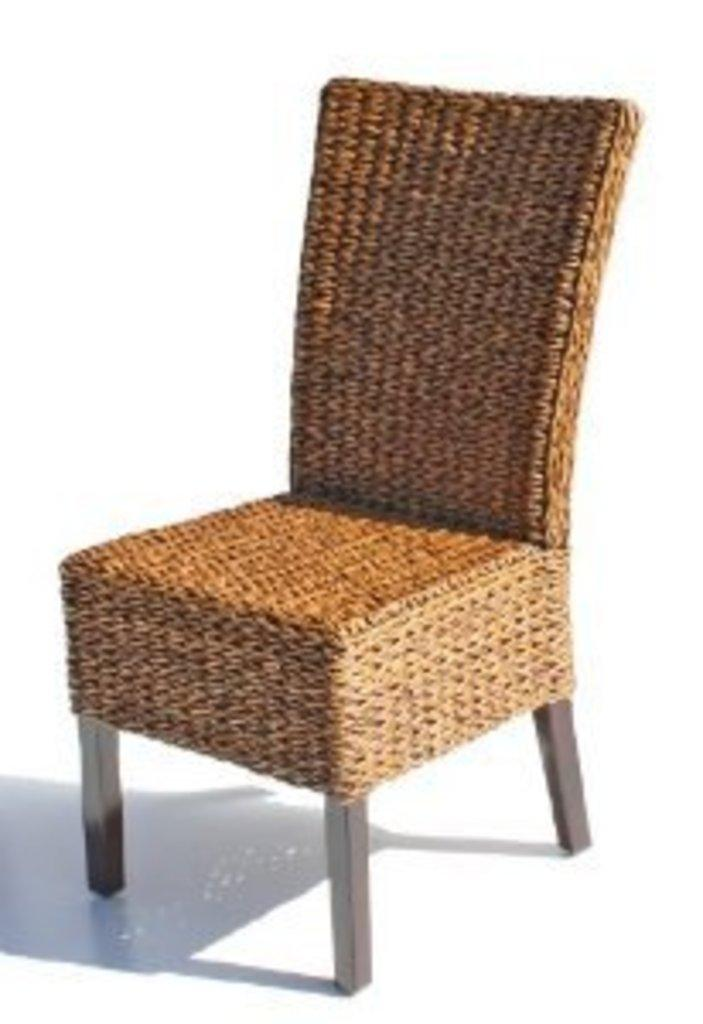Chair: (44, 10, 652, 1021)
